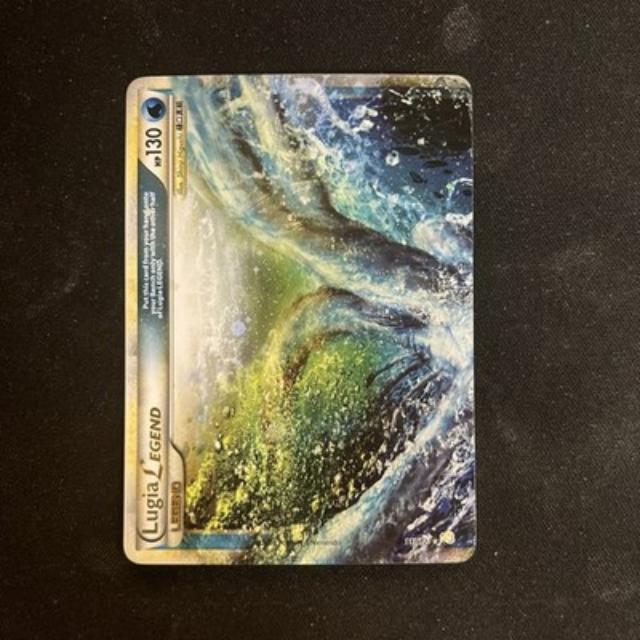Card: (119, 70, 481, 569)
Name: (136, 399, 168, 541)
